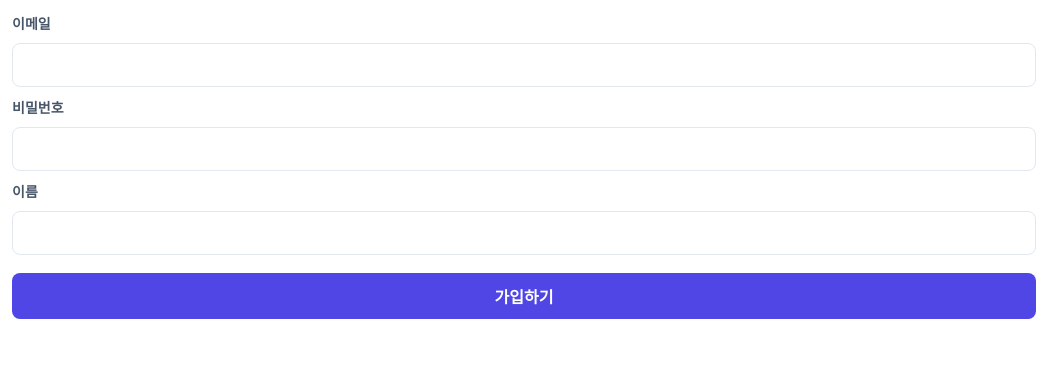
Test: SignupForm › shows API validation errors
In the field labelled "이메일": coordinates (524, 65) [12,43,1036,87], type "user@example.com"
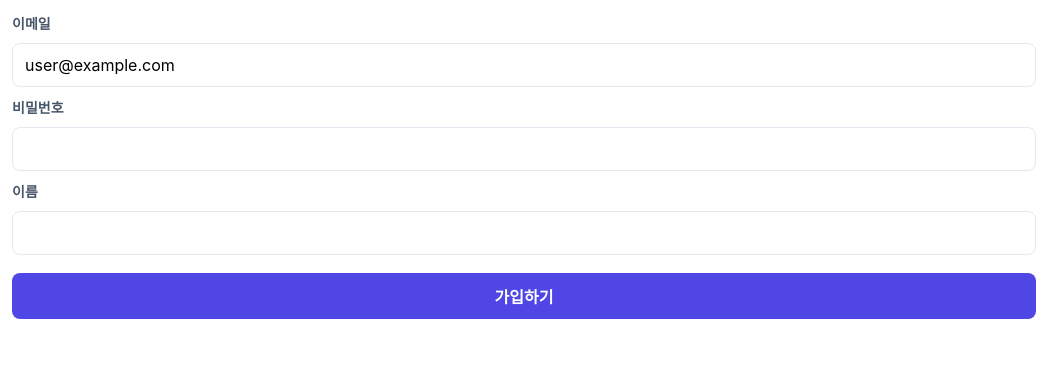
In the password field labelled "비밀번호": coordinates (524, 149) [12,127,1036,171], type "password"
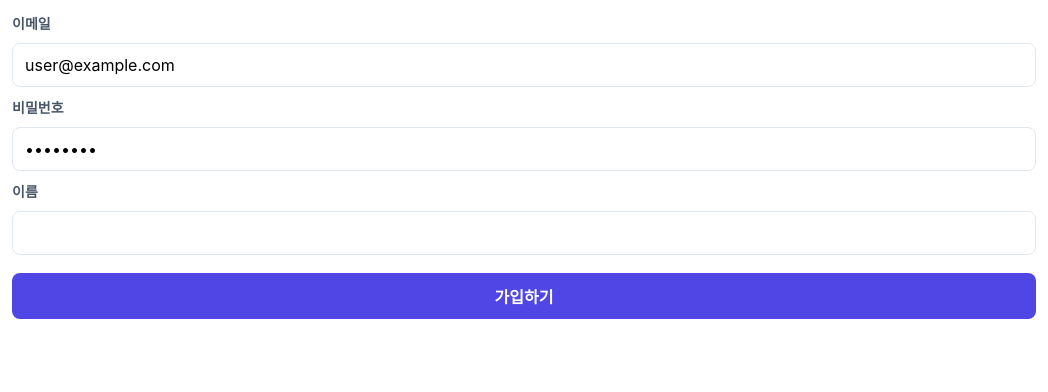
Click the button "가입하기": coordinates (524, 296) [12,273,1036,319]
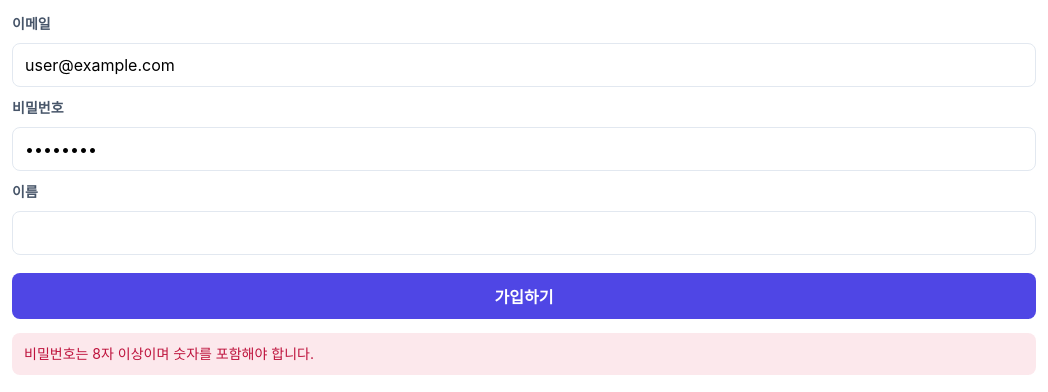
expect the text "비밀번호는 8자 이상이며 숫자를 포함해야 합니다." is shown: met, box [12,333,1036,375]
